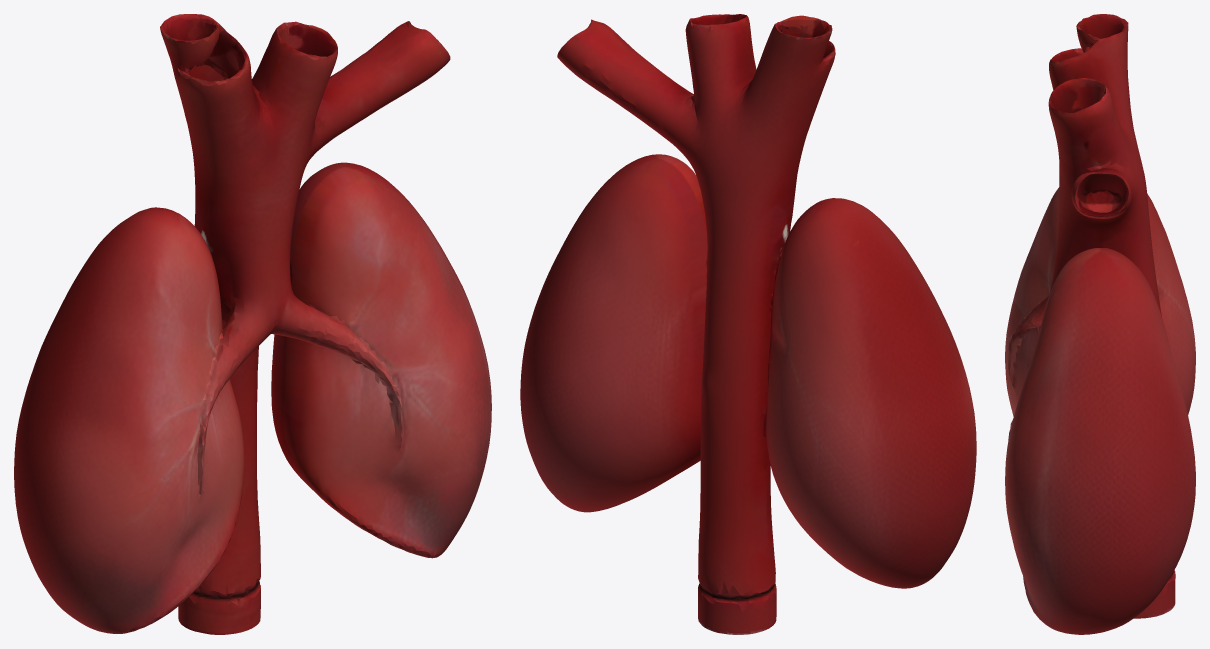
Rendered from cat_thyroid.glb.
The picture shows the model from 3 angles, left to right: view 1: azimuth 30°, elevation 25°; view 2: azimuth 150°, elevation 25°; view 3: azimuth 270°, elevation 25°; orthographic projection. The views are drawn at different scales.
Visible parts, largest first — view 1: model; view 2: model; view 3: model.
Part boxes in pixels (left/top/right/bottom): model: left=14, top=14, right=491, bottom=634; model: left=520, top=14, right=976, bottom=634; model: left=1005, top=14, right=1195, bottom=634.
Bounding box in the file's own units: 1.43 × 1.9 × 0.5902.
1 material, 1 textured.
